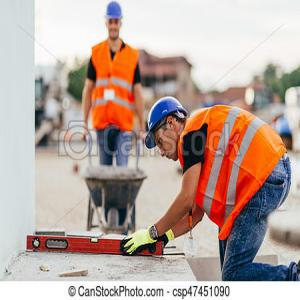blue: (148, 98, 184, 166), (106, 2, 123, 41)
